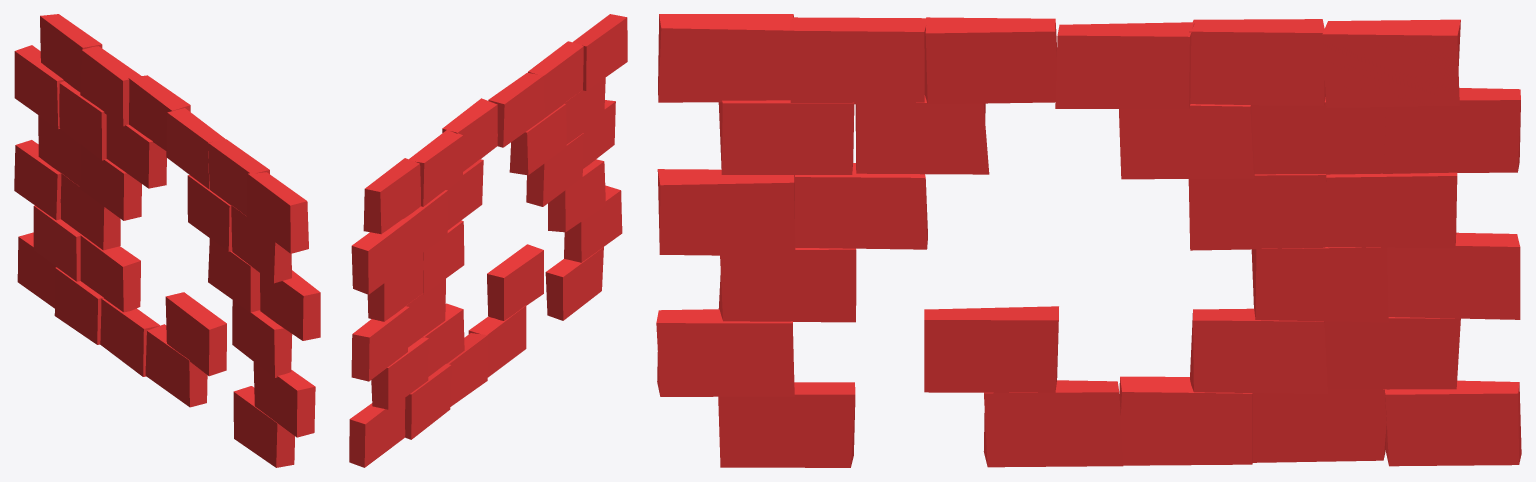
File: Blank Wall Hole 2.fbx
3 renders of one model, left to right at view 1: azimuth 30°, elevation 25°; view 2: azimuth 150°, elevation 25°; view 3: azimuth 270°, elevation 25°, orthographic. The views are drawn at different scales.
Parts seen in each view (by area): view 1: Cube.009, Cube.023, Cube.007, Cube.011, Cube.035, Cube.012, Cube.019, Cube.002, Cube, Cube.031, Cube.029, Cube.021 (+15 smaller); view 2: Cube.009, Cube.020, Cube.027, Cube.015, Cube, Cube.003, Cube.021, Cube.023, Cube.012, Cube.019, Cube.011, Cube.025 (+15 smaller); view 3: Cube.020, Cube.023, Cube.022, Cube.018, Cube.019, Cube.035, Cube.009, Cube.021, Cube.011, Cube.002, Cube.003, Cube.005 (+15 smaller).
Boxes of the visible parts, x1,y1,x2,y2 form: Cube.009: (165, 292, 226, 376); Cube.023: (246, 172, 308, 253); Cube.007: (80, 234, 140, 312); Cube.011: (253, 362, 315, 437); Cube.035: (260, 270, 320, 340); Cube.012: (232, 300, 292, 377); Cube.019: (80, 46, 141, 126); Cube.002: (145, 324, 207, 407); Cube: (233, 386, 294, 467); Cube.031: (80, 144, 141, 220); Cube.029: (106, 115, 166, 188); Cube.021: (166, 108, 225, 189); Cube.009: (487, 244, 543, 320); Cube.020: (363, 158, 420, 234); Cube.027: (351, 219, 409, 294); Cube.015: (351, 306, 409, 381); Cube: (545, 247, 603, 320); Cube.003: (349, 398, 405, 467); Cube.021: (488, 72, 544, 147); Cube.023: (573, 14, 627, 90); Cube.012: (548, 159, 605, 232); Cube.019: (409, 129, 463, 206); Cube.011: (564, 185, 622, 262); Cube.025: (509, 103, 566, 175); Cube.020: (1322, 19, 1460, 107); Cube.023: (658, 14, 793, 102); Cube.022: (789, 17, 926, 104); Cube.018: (1055, 22, 1194, 109); Cube.019: (1189, 19, 1325, 105); Cube.035: (657, 169, 795, 256); Cube.009: (924, 306, 1058, 392); Cube.021: (924, 17, 1056, 104); Cube.011: (656, 309, 794, 396); Cube.002: (983, 380, 1123, 467); Cube.003: (1385, 380, 1521, 466); Cube.005: (1119, 376, 1252, 465).
Size of the model in its own units: 113 by 907 by 1625.
